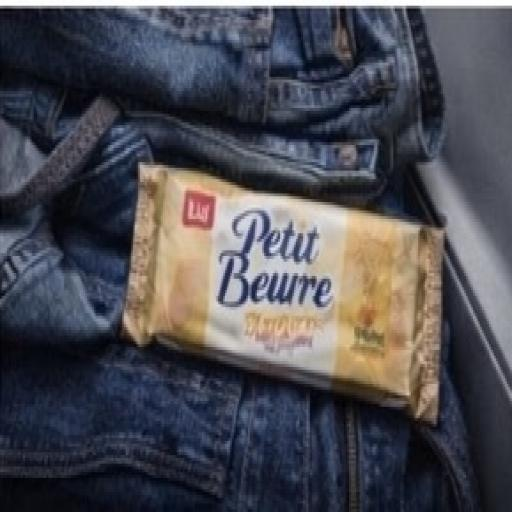petit-beurre: (92, 118, 466, 448)
